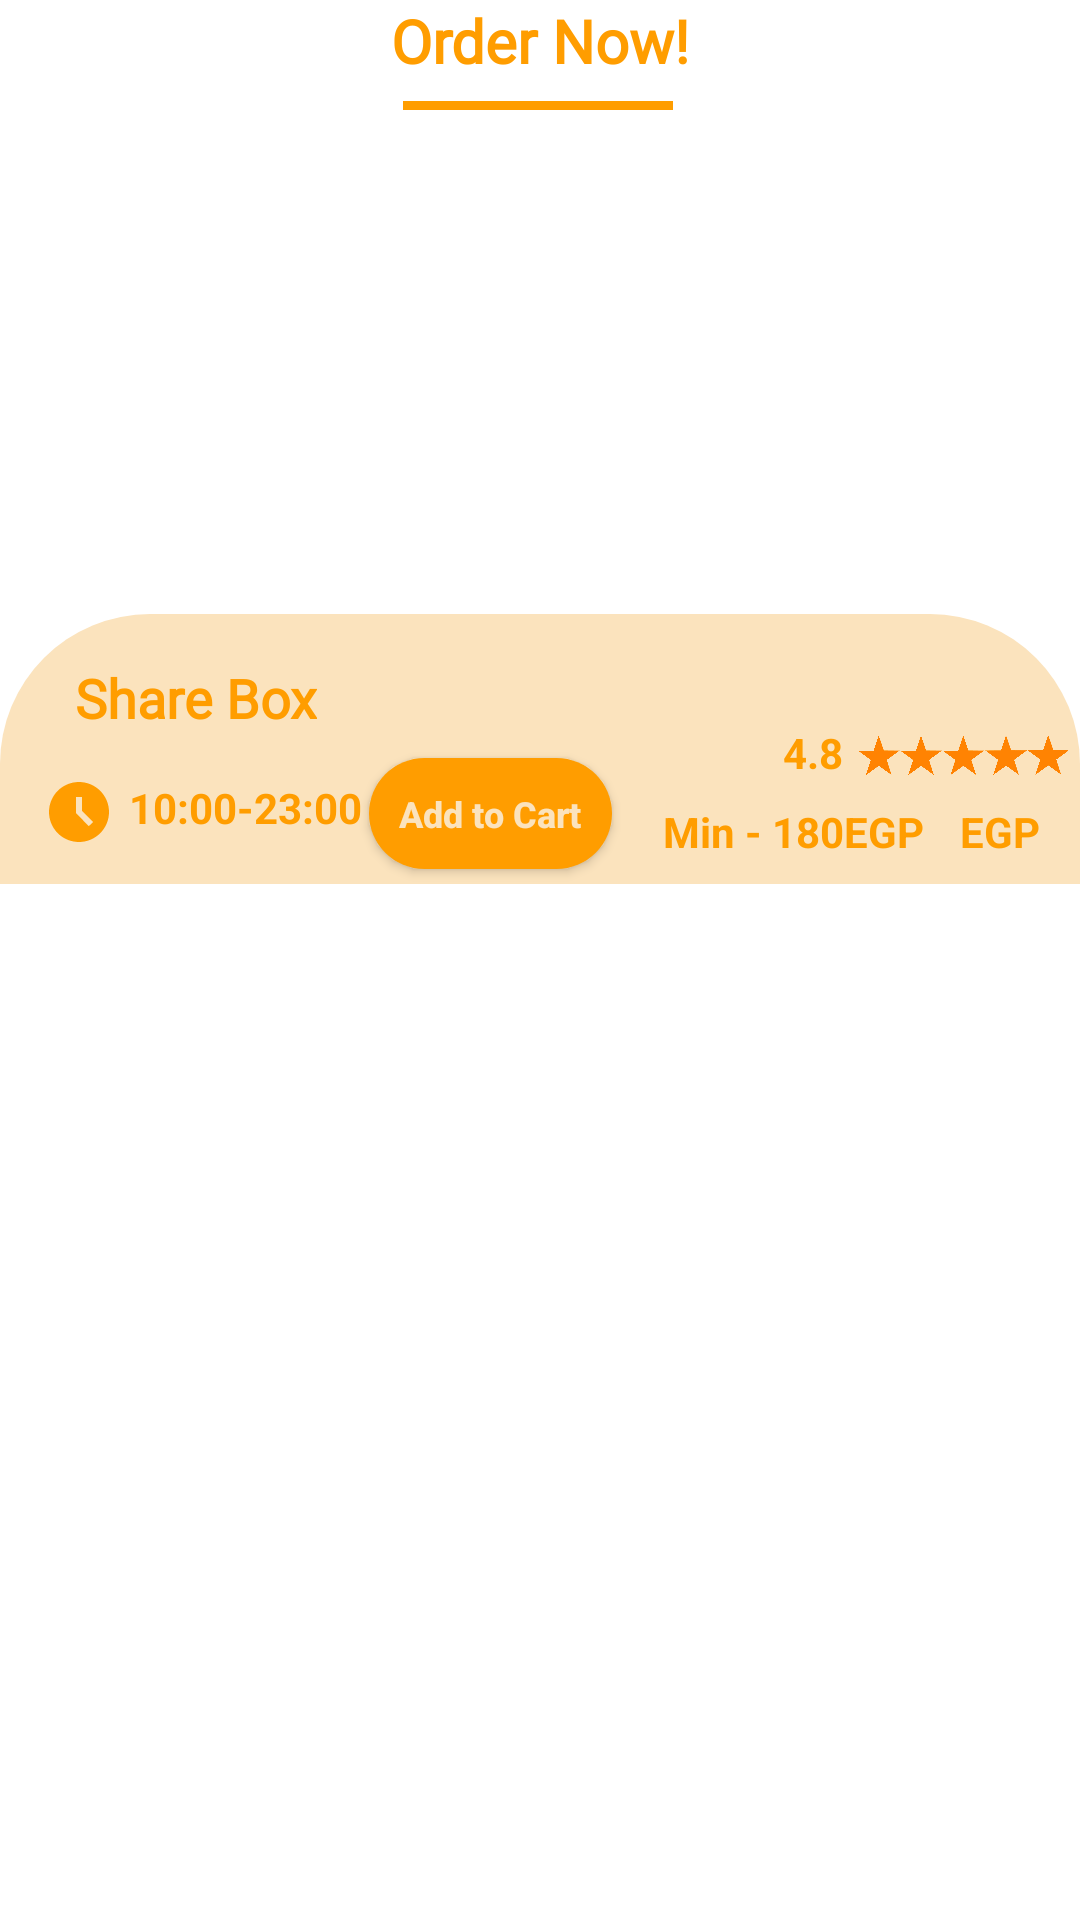

Screen size 1080*1920. Icon name, then its center in pixels as (x=x, y=y):
access time: (x=79, y=812)
